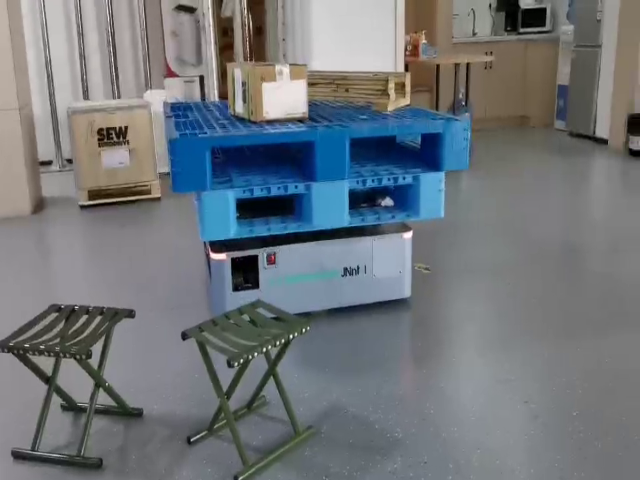block: (168, 139, 212, 194), (309, 130, 353, 182), (199, 191, 238, 240), (308, 186, 350, 227), (438, 124, 471, 176), (409, 182, 449, 222)
hole pallet: (210, 140, 313, 193), (347, 132, 442, 179), (237, 190, 306, 233), (349, 188, 415, 224)
